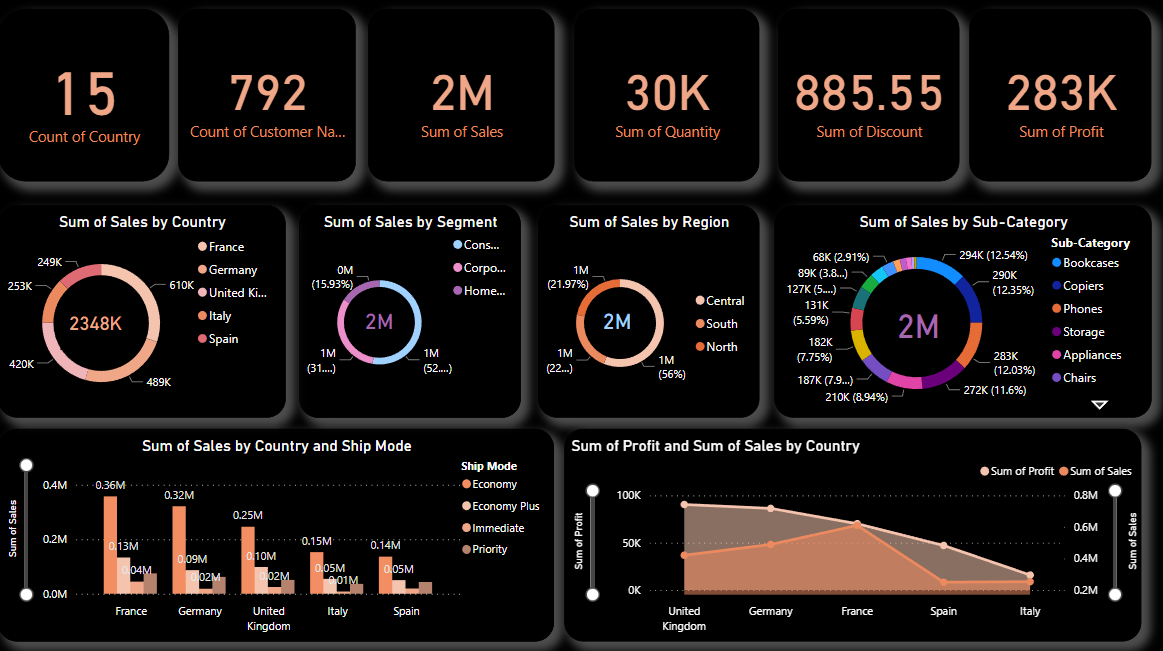

The page's visual inventory and layout, read from the dashboard file:
{"tool":"powerbi","page":{"name":"Page 1","canvas":[1280,720],"ordinal":0},"visuals":[{"type":"card","fields":{"Values":["Count(ListOfOrders.Country)"]},"box":[0,9.6,188,189.4],"z":0},{"type":"card","fields":{"Values":["Count(ListOfOrders.Customer Name)"]},"box":[197.6,9.6,194.9,189.4],"z":1000},{"type":"card","fields":{"Values":["Sum(OrderBreakdown.Sales)"]},"box":[406.2,9.6,204.5,189.4],"z":2000},{"type":"card","fields":{"Values":["Sum(OrderBreakdown.Quantity)"]},"box":[632.6,9.6,203.1,189.4],"z":3000},{"type":"card","fields":{"Values":["Sum(OrderBreakdown.Discount)"]},"box":[856.3,9.6,199,189.4],"z":4000},{"type":"card","fields":{"Values":["Sum(OrderBreakdown.Profit)"]},"box":[1066.2,9.6,200.3,189.4],"z":5000},{"type":"donutChart","fields":{"Y":["Sum(OrderBreakdown.Sales)"],"Category":["ListOfOrders.Country"]},"box":[0,225,315.6,233.3],"z":6000},{"type":"card","fields":{"Values":["Sum(OrderBreakdown.Sales)"]},"box":[68.6,326.6,76.8,57.6],"z":7000},{"type":"donutChart","fields":{"Category":["ListOfOrders.Segment"],"Y":["Sum(OrderBreakdown.Sales)"]},"box":[330.7,225,242.9,233.3],"z":8000},{"type":"card","fields":{"Values":["Sum(OrderBreakdown.Sales)"]},"box":[392.5,328,52.1,49.4],"z":9000},{"type":"donutChart","fields":{"Category":["ListOfOrders.Region"],"Y":["Sum(OrderBreakdown.Sales)"]},"box":[592.8,225,242.9,233.3],"z":10000},{"type":"donutChart","fields":{"Category":["OrderBreakdown.Sub-Category"],"Y":["Sum(OrderBreakdown.Sales)"]},"box":[852.1,225,414.4,233.3],"z":11000},{"type":"card","fields":{"Values":["Sum(OrderBreakdown.Sales)"]},"box":[654.5,330.7,50.8,42.5],"z":12000},{"type":"card","fields":{"Values":["Sum(OrderBreakdown.Sales)"]},"box":[966,319.7,89.2,71.4],"z":13000},{"type":"clusteredColumnChart","fields":{"Y":["Sum(OrderBreakdown.Sales)"],"Category":["ListOfOrders.Country"],"Series":["ListOfOrders.Ship Mode"]},"box":[0,470.7,610.6,233.3],"z":14000},{"type":"areaChart","fields":{"Y":["Sum(OrderBreakdown.Profit)"],"Y2":["Sum(OrderBreakdown.Sales)"],"Category":["ListOfOrders.Country"]},"box":[621.6,470.7,634,233.3],"z":15000}]}

Visuals, with their boxes in screenshot pixels (x1, y1, x2, y2), scaled from the page's 1280x720 canvas onto the 1163x651 screenshot:
card - Count(ListOfOrders.Country): 0, 9, 171, 180
card - Count(ListOfOrders.Customer Name): 180, 9, 357, 180
card - Sum(OrderBreakdown.Sales): 369, 9, 555, 180
card - Sum(OrderBreakdown.Quantity): 575, 9, 759, 180
card - Sum(OrderBreakdown.Discount): 778, 9, 959, 180
card - Sum(OrderBreakdown.Profit): 969, 9, 1151, 180
donutChart - Sum(OrderBreakdown.Sales) x ListOfOrders.Country: 0, 203, 287, 414
card - Sum(OrderBreakdown.Sales): 62, 295, 132, 347
donutChart - ListOfOrders.Segment x Sum(OrderBreakdown.Sales): 300, 203, 521, 414
card - Sum(OrderBreakdown.Sales): 357, 297, 404, 341
donutChart - ListOfOrders.Region x Sum(OrderBreakdown.Sales): 539, 203, 759, 414
donutChart - OrderBreakdown.Sub-Category x Sum(OrderBreakdown.Sales): 774, 203, 1151, 414
card - Sum(OrderBreakdown.Sales): 595, 299, 641, 337
card - Sum(OrderBreakdown.Sales): 878, 289, 959, 354
clusteredColumnChart - Sum(OrderBreakdown.Sales) x ListOfOrders.Country: 0, 426, 555, 637
areaChart - Sum(OrderBreakdown.Profit) x Sum(OrderBreakdown.Sales): 565, 426, 1141, 637
